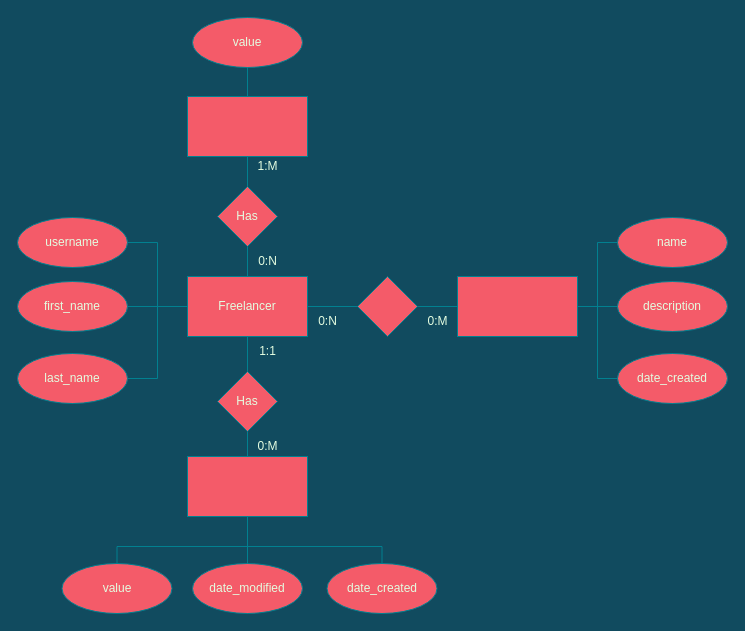
The diagram is 745 pixels wide and 631 high, and some of its shapes have lost their labels. The centre of each missing label's shape, as x and y in pixels:
Category: (x=247, y=126)
Comment: (x=247, y=486)
Project: (x=517, y=306)
Work on: (x=387, y=306)
